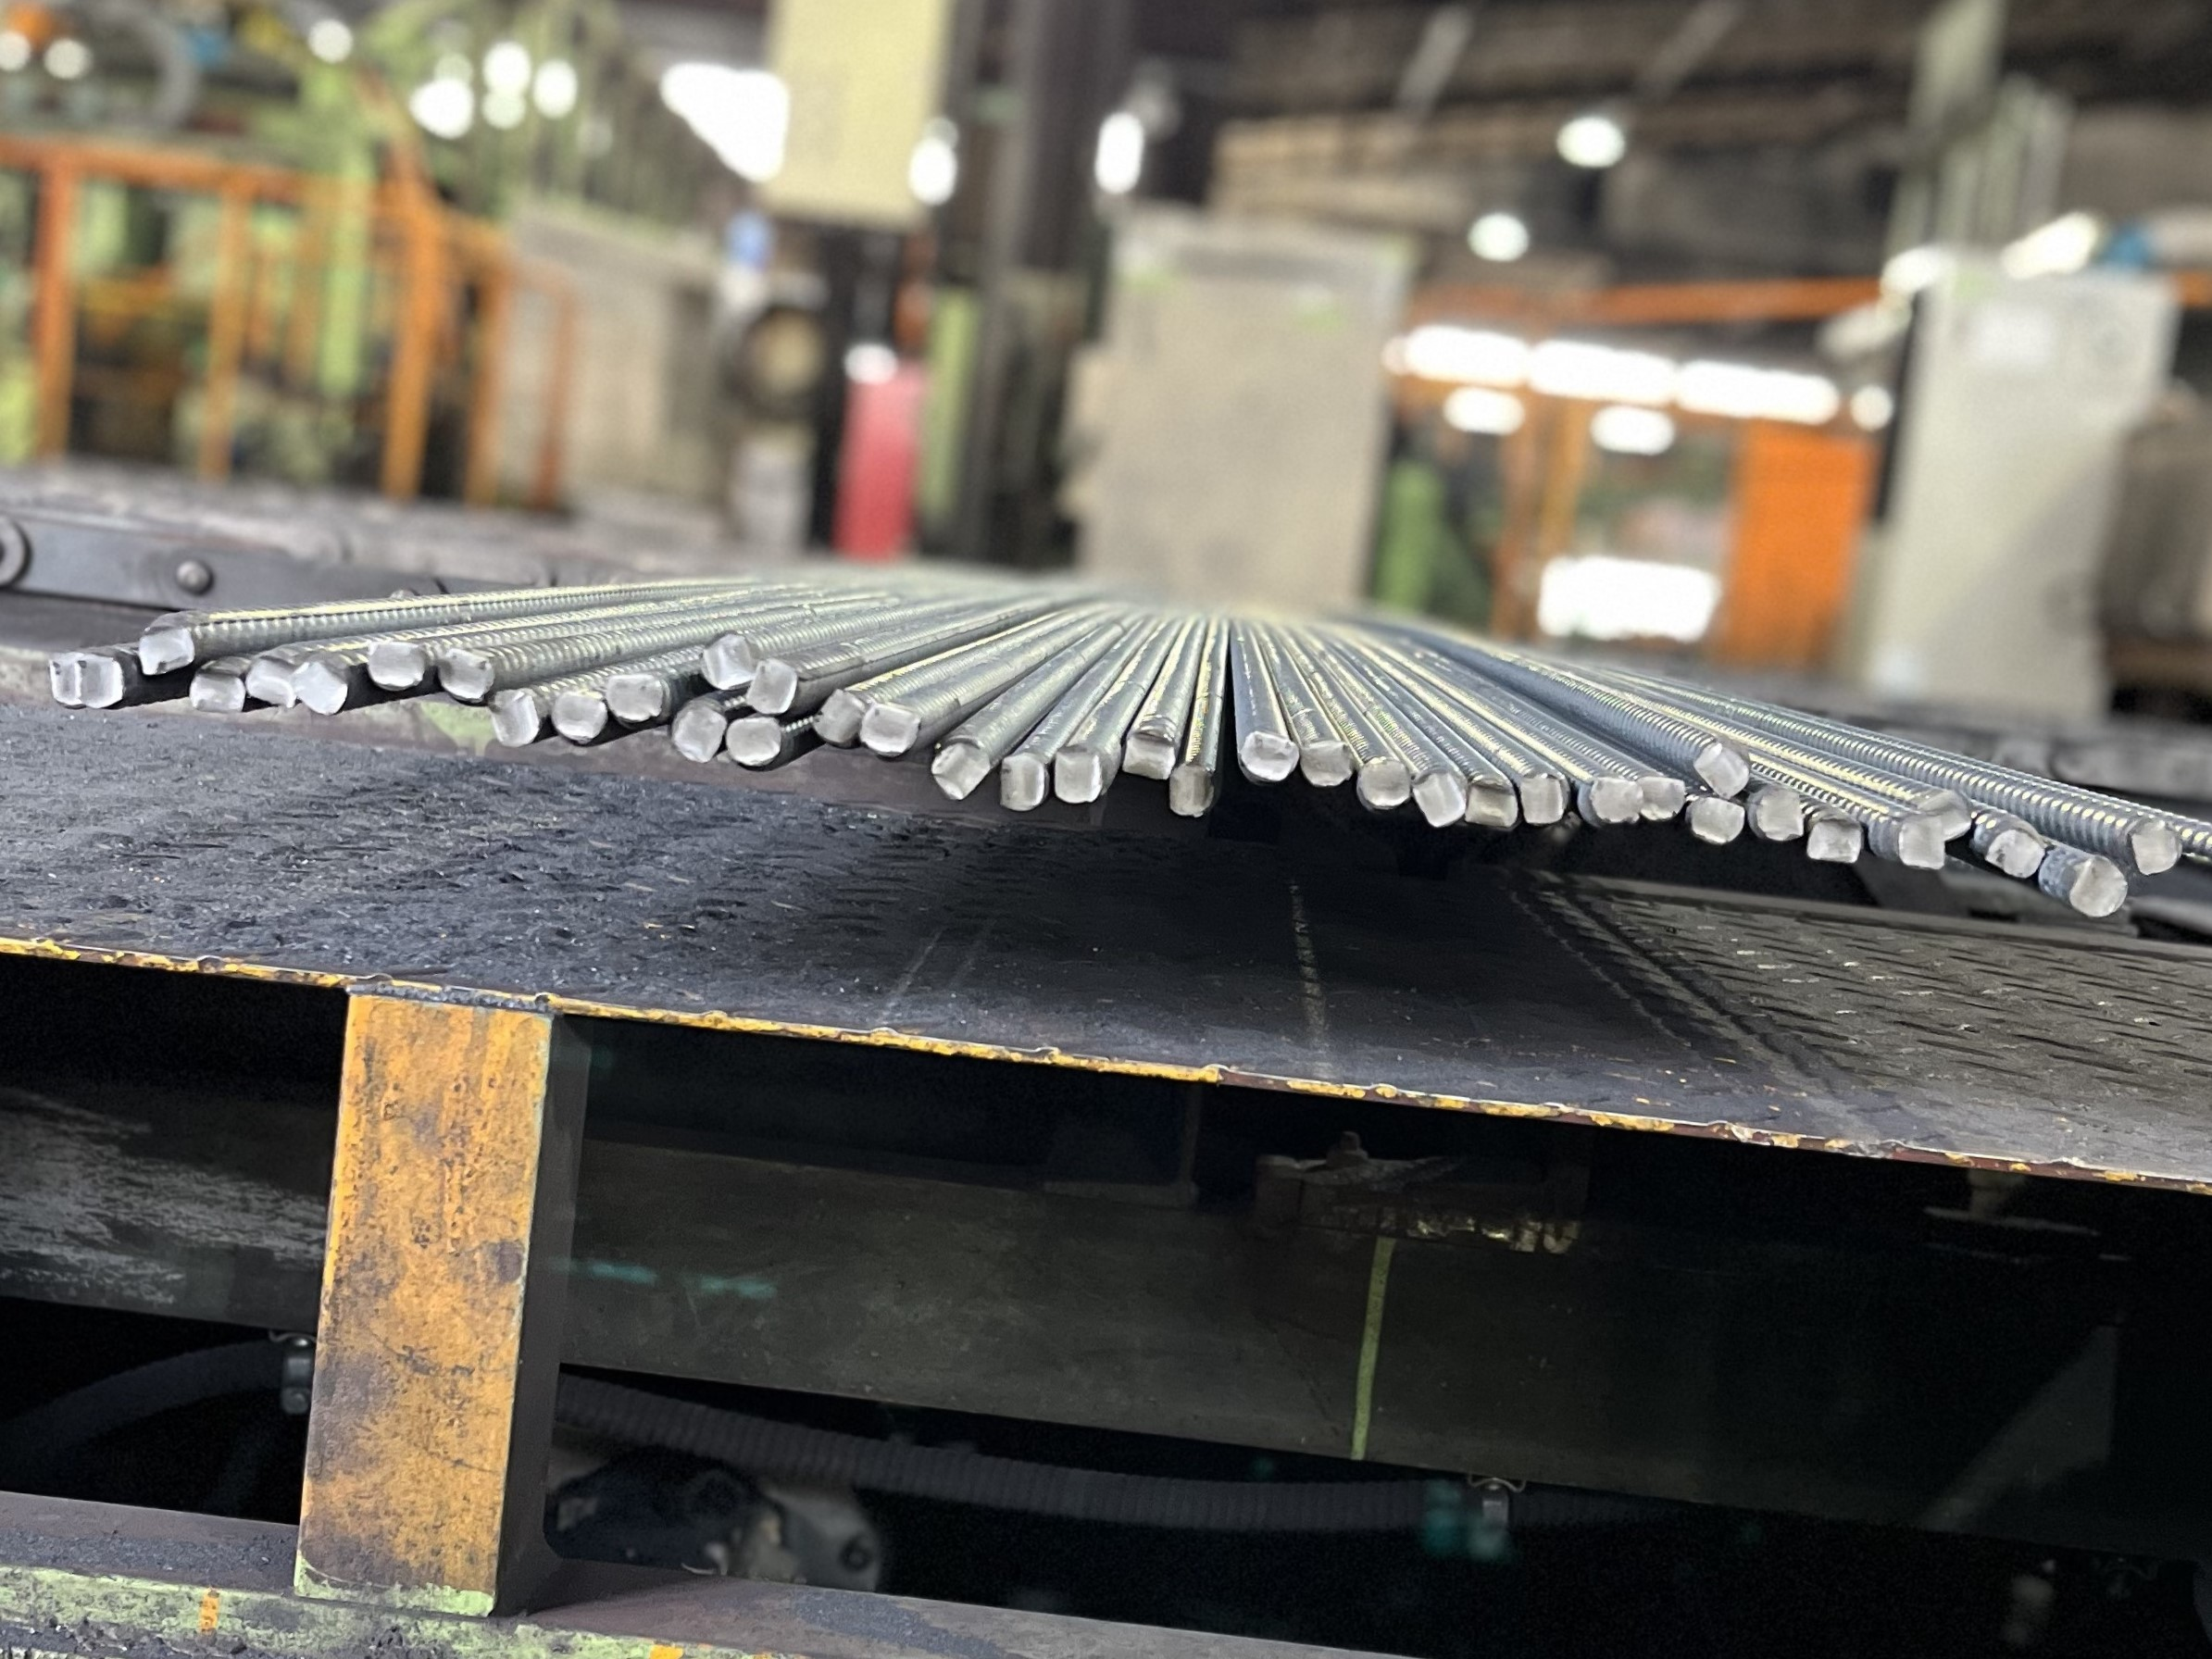rod: (2064, 850, 2128, 920), (927, 737, 994, 802), (1689, 737, 1755, 802), (603, 669, 675, 725), (858, 701, 924, 758), (695, 631, 757, 692), (2127, 817, 2188, 878), (364, 634, 427, 694), (293, 655, 350, 720), (671, 702, 729, 767), (1982, 826, 2048, 882), (136, 620, 199, 678), (1236, 728, 1300, 784), (1747, 782, 1806, 842), (549, 688, 610, 746), (1051, 744, 1107, 807), (73, 647, 126, 713), (436, 647, 495, 704), (488, 687, 540, 749), (1518, 767, 1571, 829), (1682, 795, 1745, 847), (743, 657, 798, 714), (1412, 769, 1466, 828), (1896, 812, 1951, 871), (723, 716, 784, 769), (1804, 816, 1865, 868), (1356, 756, 1412, 812), (1466, 774, 1520, 831), (811, 687, 863, 746), (999, 756, 1051, 816), (185, 669, 246, 720), (1299, 737, 1354, 791), (1917, 789, 1973, 843), (1119, 728, 1177, 781), (1586, 774, 1644, 826), (246, 653, 298, 708), (1168, 763, 1218, 819), (1635, 774, 1689, 823), (45, 648, 73, 706)
